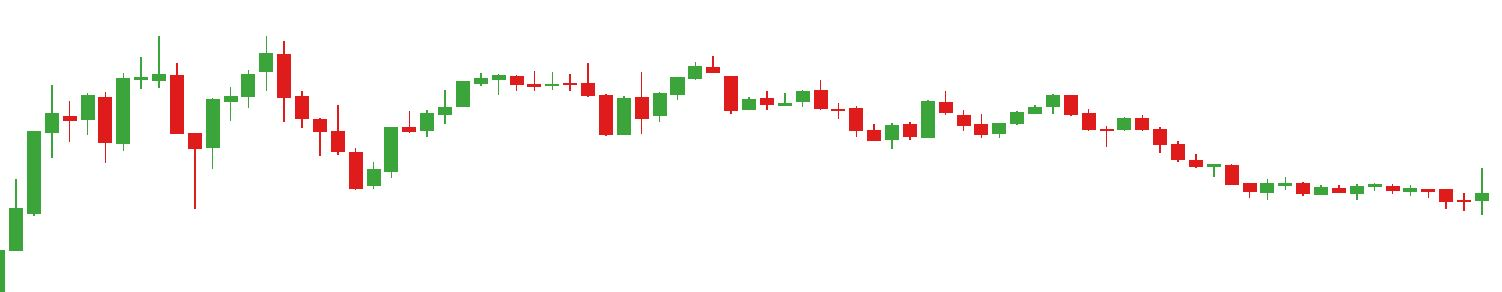buy: (97, 80, 204, 214)
